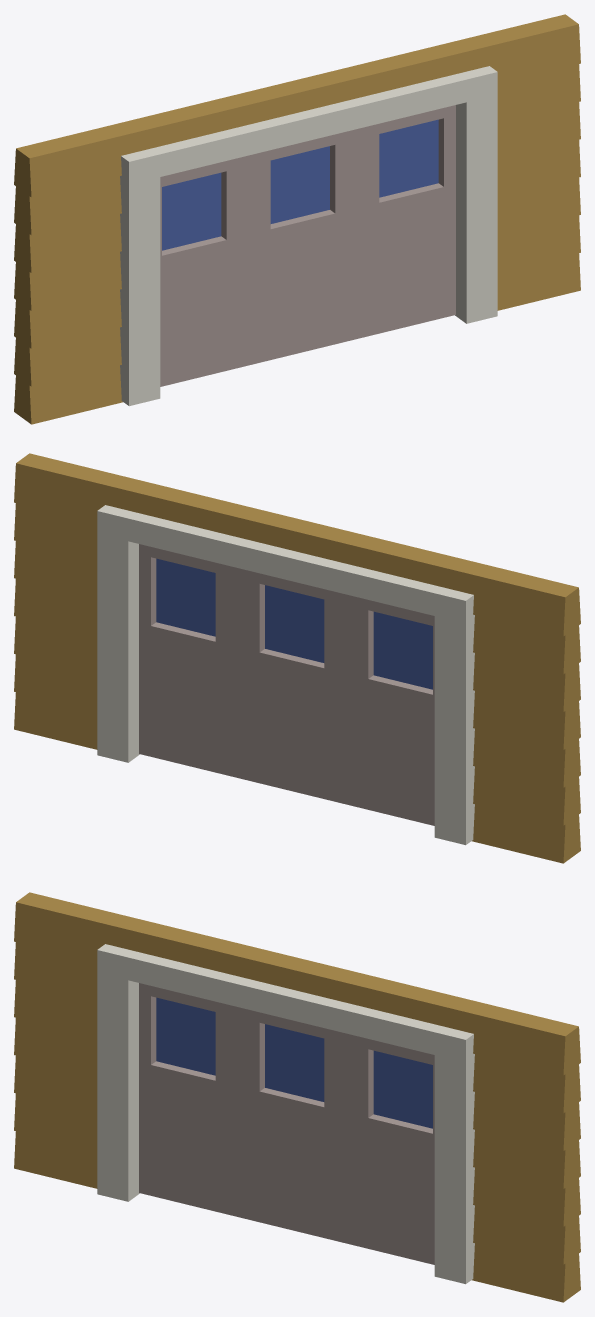
File: GarageDoor01_house4.obj
3 views of the same model, one above another, from view 1: azimuth 30°, elevation 25°; view 2: azimuth 150°, elevation 25°; view 3: azimuth 330°, elevation 25° (orthographic).
Visible parts, largest first — view 1: GarageDoor01_Cube.003; view 2: GarageDoor01_Cube.003; view 3: GarageDoor01_Cube.003.
Part boxes in pixels (bbox=[...]): GarageDoor01_Cube.003: bbox=[14, 14, 580, 424]; GarageDoor01_Cube.003: bbox=[14, 453, 580, 863]; GarageDoor01_Cube.003: bbox=[14, 892, 580, 1302].
Size of the model in its own units: 7.18 by 3.3 by 0.7212.
